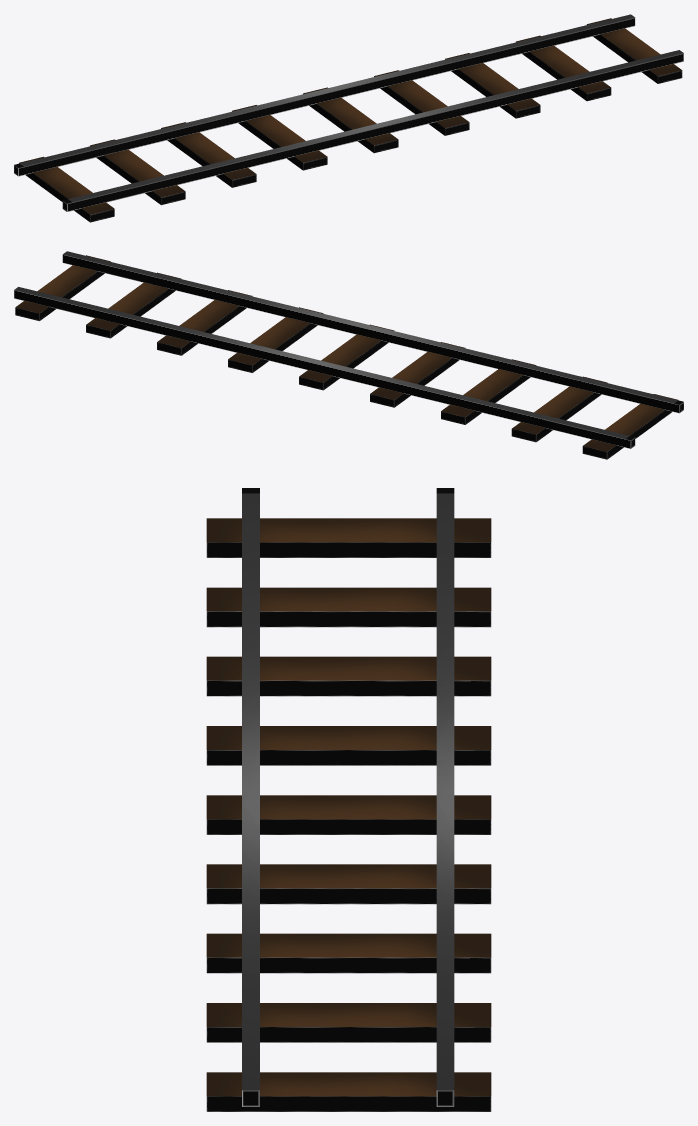
File: pruga.obj
The picture shows the model from 3 angles, top to bottom: view 1: azimuth 30°, elevation 25°; view 2: azimuth 150°, elevation 25°; view 3: azimuth 270°, elevation 25°; orthographic projection. The views are drawn at different scales.
Parts seen in each view (by area): view 1: pCube10, pCube11, pCube9, pCube6, pCube2, pCube3, pCube5, pCube7, pCube1, pCube8, pCube4; view 2: pCube11, pCube10, pCube1, pCube7, pCube4, pCube2, pCube8, pCube3, pCube9, pCube5, pCube6; view 3: pCube10, pCube11, pCube6, pCube2, pCube3, pCube7, pCube9, pCube1, pCube4, pCube5, pCube8.
Part boxes in pixels (x1,y1,x2,y2): pCube10: (14,14,635,176); pCube11: (62,50,683,211); pCube9: (586,18,682,83); pCube6: (374,70,469,135); pCube2: (90,139,185,205); pCube3: (161,122,256,187); pCube5: (303,87,398,153); pCube7: (445,53,540,118); pCube1: (19,156,114,222); pCube8: (516,35,611,101); pCube4: (232,105,327,170); pCube11: (62,251,683,413); pCube10: (14,287,635,448); pCube1: (582,394,677,459); pCube7: (157,290,252,355); pCube4: (370,342,465,407); pCube2: (511,376,607,442); pCube8: (86,272,181,338); pCube3: (441,359,536,424); pCube9: (15,255,110,321); pCube5: (299,324,394,390); pCube6: (228,307,323,372); pCube10: (436,488,454,1106); pCube11: (242,488,259,1106); pCube6: (206,864,491,904); pCube2: (206,587,491,627); pCube3: (206,656,491,696); pCube7: (206,933,491,973); pCube9: (206,1072,491,1111); pCube1: (206,518,491,557); pCube4: (206,726,491,765); pCube5: (206,795,491,834); pCube8: (206,1003,491,1042).
Size of the model in its own units: 5.01 by 0.1238 by 1.
Materials: 2 (2 with a texture image).
